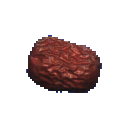gd: (12, 18, 128, 113)
